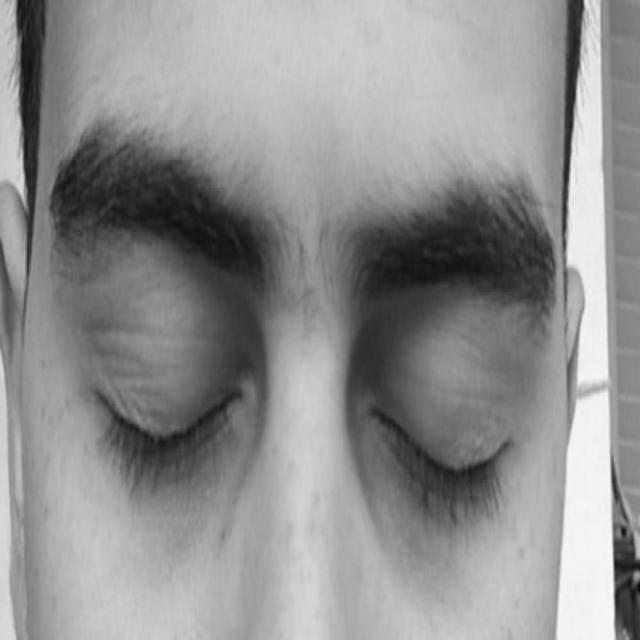real: (77, 220, 534, 558)
